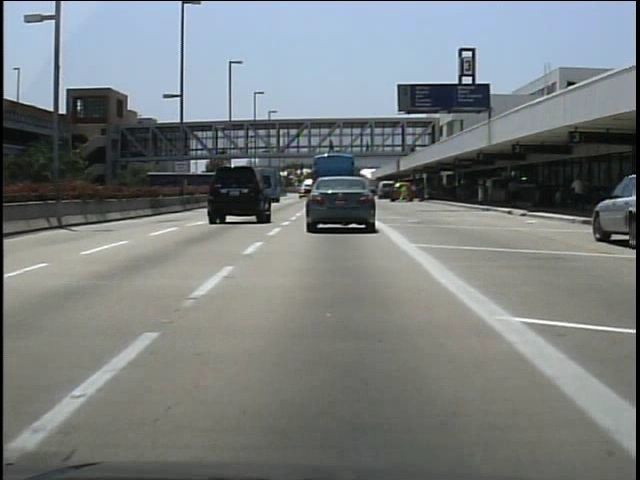person: (567, 170, 587, 214), (503, 175, 522, 213), (414, 179, 430, 205), (400, 180, 415, 207), (362, 138, 375, 159), (326, 135, 339, 155)
